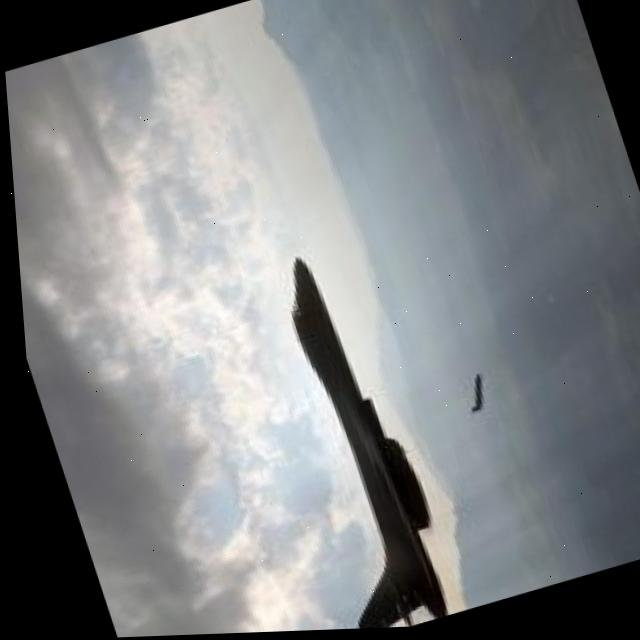missile: (457, 374, 493, 418)
